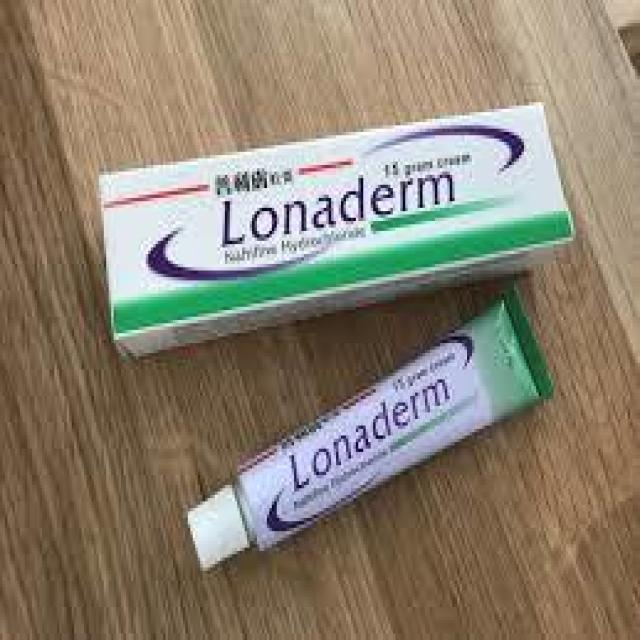-Hazardous waste - medicine inner packaging-: (190, 296, 556, 570)
-Recyclables - paper box-: (94, 100, 574, 347)
